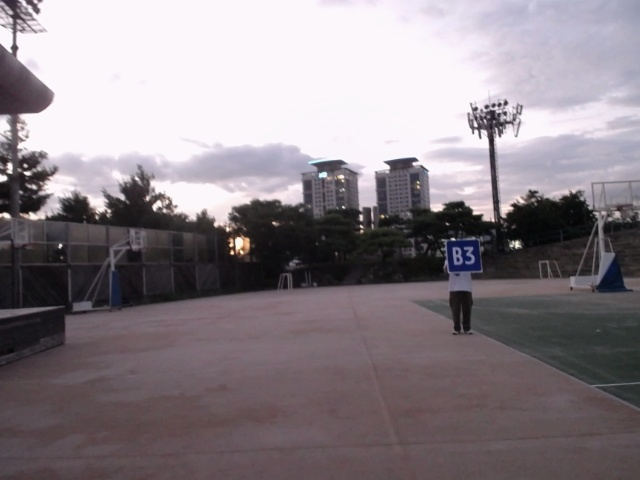delivery_b3: (445, 238, 483, 275)
